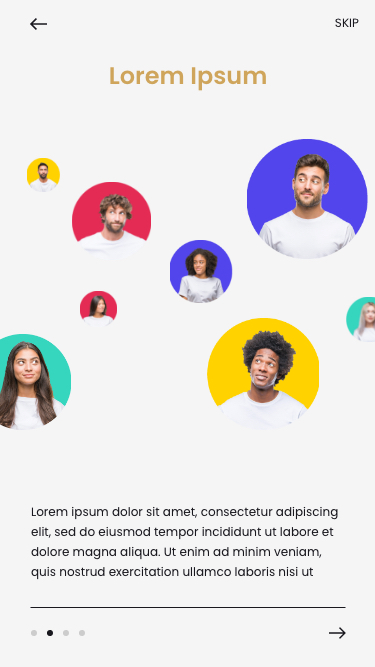Icon: (329, 626, 347, 640), (30, 18, 48, 31)
Image: (1, 139, 373, 430)
PageIndicator: (31, 629, 87, 637)
Text: (31, 506, 339, 580), (110, 67, 267, 92), (335, 18, 359, 29)
